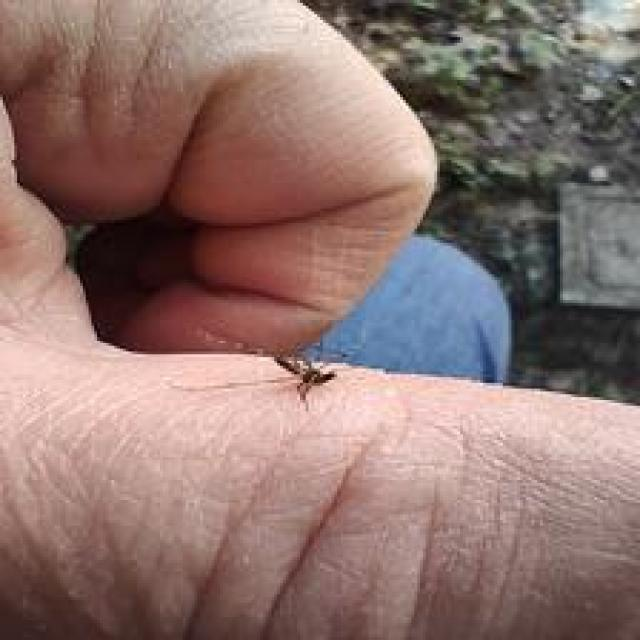Aedes albopictus: (271, 348, 340, 408)
